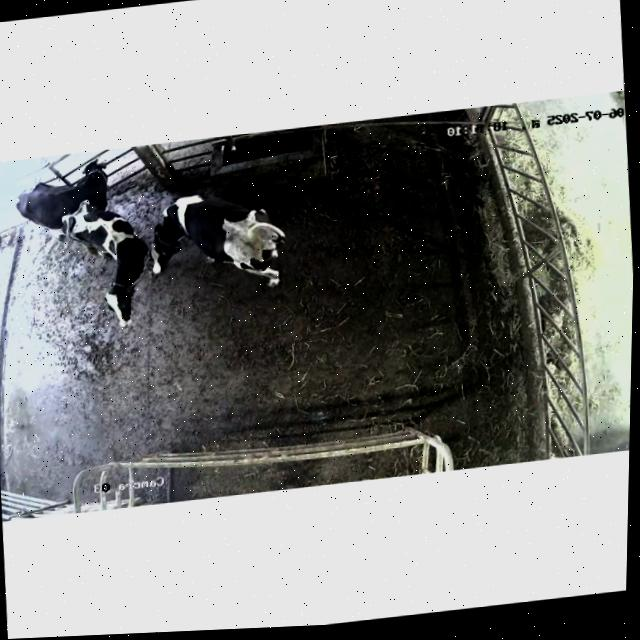stand: (142, 177, 294, 314), (54, 190, 156, 341), (7, 151, 115, 234)
